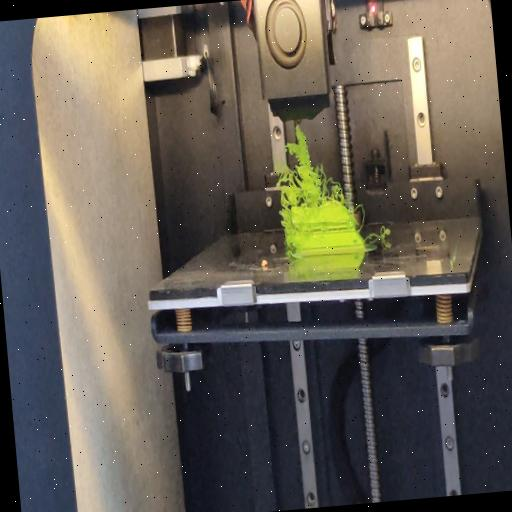spaghetti: (269, 119, 346, 214), (278, 211, 297, 260), (364, 228, 392, 247), (351, 202, 366, 236)
